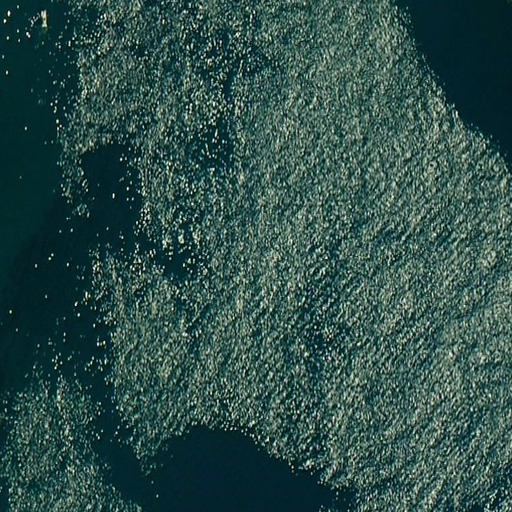ship: (39, 8, 49, 31)
